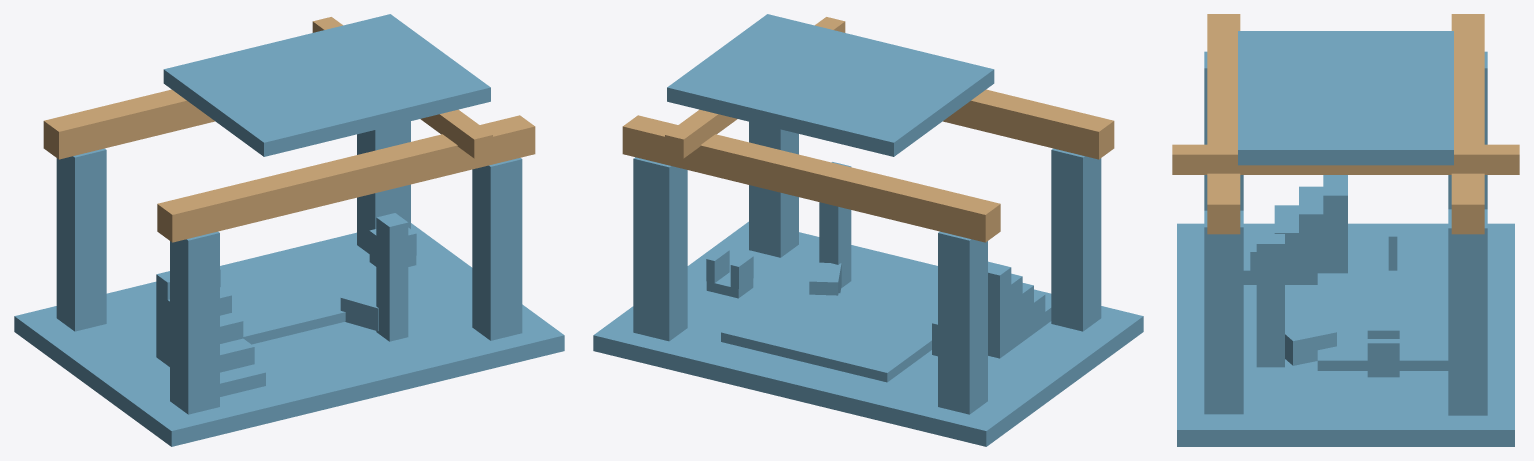
The picture shows the model from 3 angles, left to right: view 1: azimuth 30°, elevation 25°; view 2: azimuth 150°, elevation 25°; view 3: azimuth 270°, elevation 25°; orthographic projection. The views are drawn at different scales.
Parts seen in each view (by area): view 1: Base, Laje, Viga principal A, Chapa de referência, Pilar 3, Pilar 2, Pilar 1, Viga principal B, Escada composta, Escora adicionada, Pilar 4, Viga secundária (+2 smaller); view 2: Base, Laje, Viga principal B, Chapa de referência, Pilar 4, Pilar 1, Pilar 3, Viga principal A, Pilar 2, Escada composta, Viga secundária, Escora adicionada (+2 smaller); view 3: Base, Laje, Chapa de referência, Pilar 4, Pilar 2, Escada composta, Viga principal A, Viga principal B, Viga secundária, Escora adicionada, Apoio sem código, Conector com rebaixo (+3 smaller).
Boxes of the visible parts, x1,y1,x2,y2 form: Base: (14,223,564,446); Laje: (163,14,490,156); Viga principal A: (157,115,535,242); Chapa de referência: (220,249,376,344); Pilar 3: (56,148,106,331); Pilar 2: (472,158,522,340); Pilar 1: (170,231,219,414); Viga principal B: (43,89,214,159); Escada composta: (156,269,265,396); Escora adicionada: (376,213,408,341); Pilar 4: (357,121,410,253); Viga secundária: (312,17,492,158); Base: (593,221,1143,446); Laje: (667,14,994,156); Viga principal B: (622,115,1000,242); Chapa de referência: (721,281,937,382); Pilar 4: (633,157,687,341); Pilar 1: (1051,148,1101,331); Pilar 3: (938,231,987,414); Viga principal A: (943,89,1114,159); Pilar 2: (749,121,798,257); Escada composta: (988,261,1051,358); Viga secundária: (665,17,845,158); Escora adicionada: (819,162,851,288); Base: (1177,223,1514,446); Laje: (1238,31,1453,165); Chapa de referência: (1317,273,1448,370); Pilar 4: (1448,209,1487,415); Pilar 2: (1204,210,1243,414); Escada composta: (1243,175,1347,284); Viga principal A: (1207,14,1240,234); Viga principal B: (1451,14,1484,234); Viga secundária: (1172,144,1519,174); Escora adicionada: (1256,234,1284,367); Apoio sem código: (1285,320,1336,365); Conector com rebaixo: (1367,326,1399,377).
Bounding box in the file's own units: 0.52 × 0.321 × 0.37.
